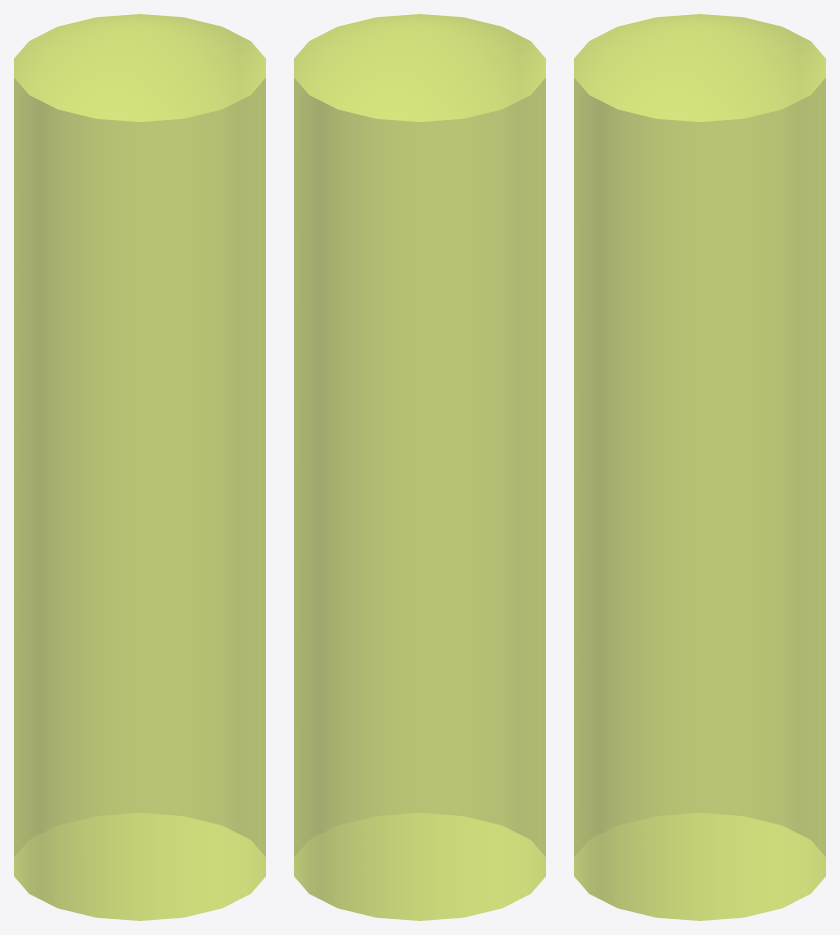
File: Y_Button.FBX
The picture shows the model from 3 angles, left to right: view 1: azimuth 30°, elevation 25°; view 2: azimuth 150°, elevation 25°; view 3: azimuth 270°, elevation 25°; orthographic projection.
Visible parts, largest first — view 1: Cylinder001; view 2: Cylinder001; view 3: Cylinder001.
Boxes of the visible parts, x1,y1,x2,y2 form: Cylinder001: (14, 14, 265, 920); Cylinder001: (294, 14, 545, 920); Cylinder001: (574, 14, 825, 920).
Size of the model in its own units: 5.38 by 19.48 by 5.29.
